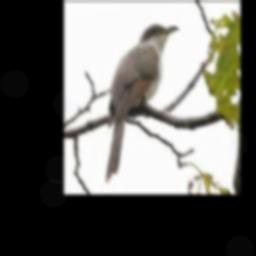Cuckoo: (106, 23, 179, 183)
